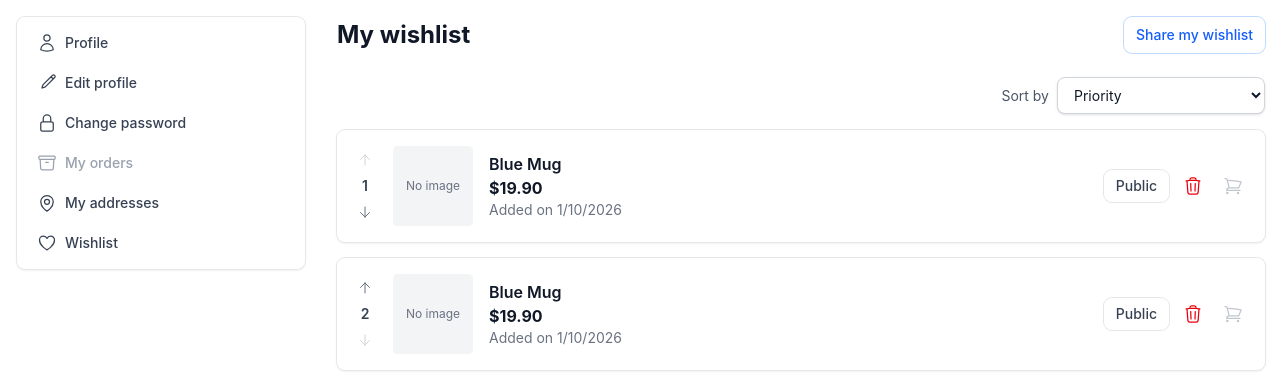
Test case: WishlistPage › switching back to priority sort re-enables the move buttons
Expected: the text named "Priority 1" is shown, left=362, top=176, right=368, bottom=196
Step 1. Select "Price: low to high" in the dropdown labelled "Sort by" → (1161,96), box left=1057, top=77, right=1265, bottom=114
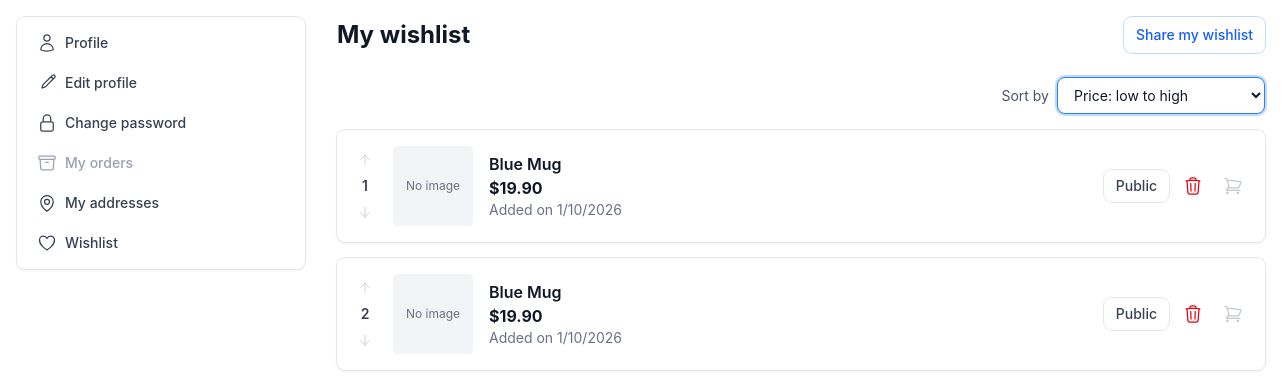
Step 2. Select "Priority" in the dropdown labelled "Sort by" → (1161,96), box left=1057, top=77, right=1265, bottom=114
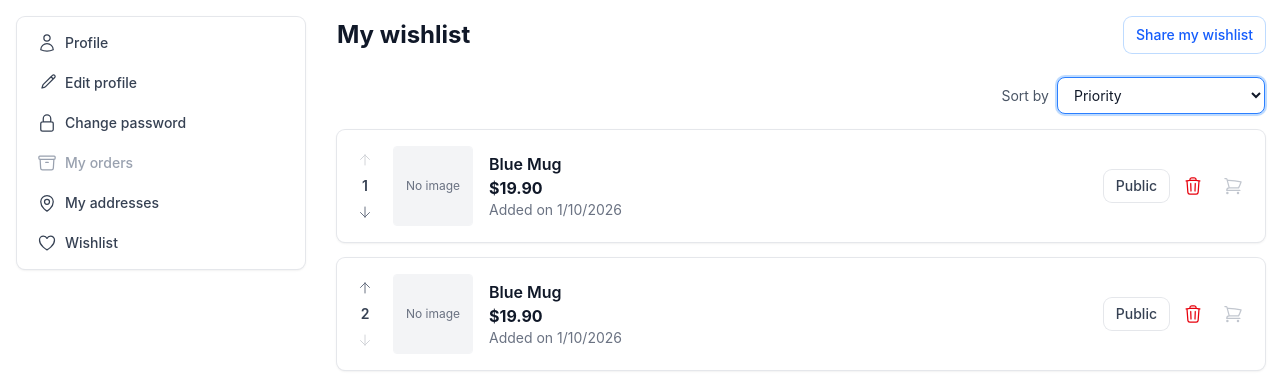
Expected: the 1st button named "Move Blue Mug down" is enabled, left=353, top=200, right=377, bottom=224
